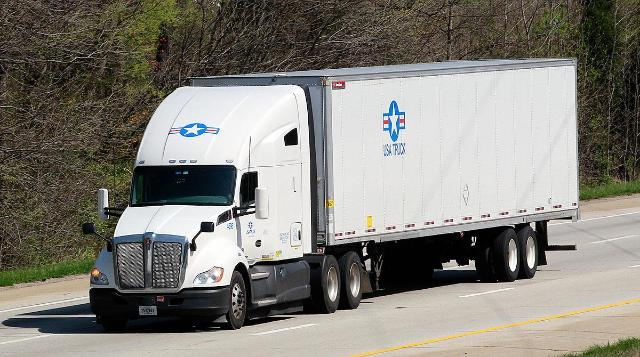truck: (58, 50, 596, 337)
